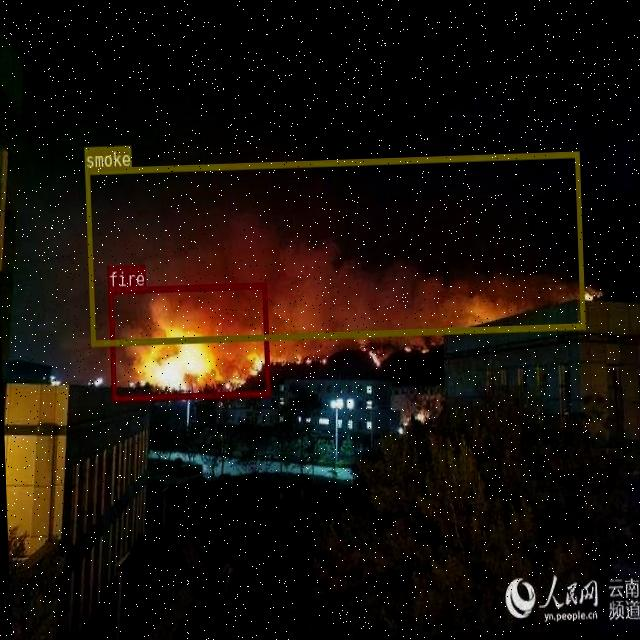fire: (107, 282, 269, 401)
smoke: (83, 150, 584, 344)
